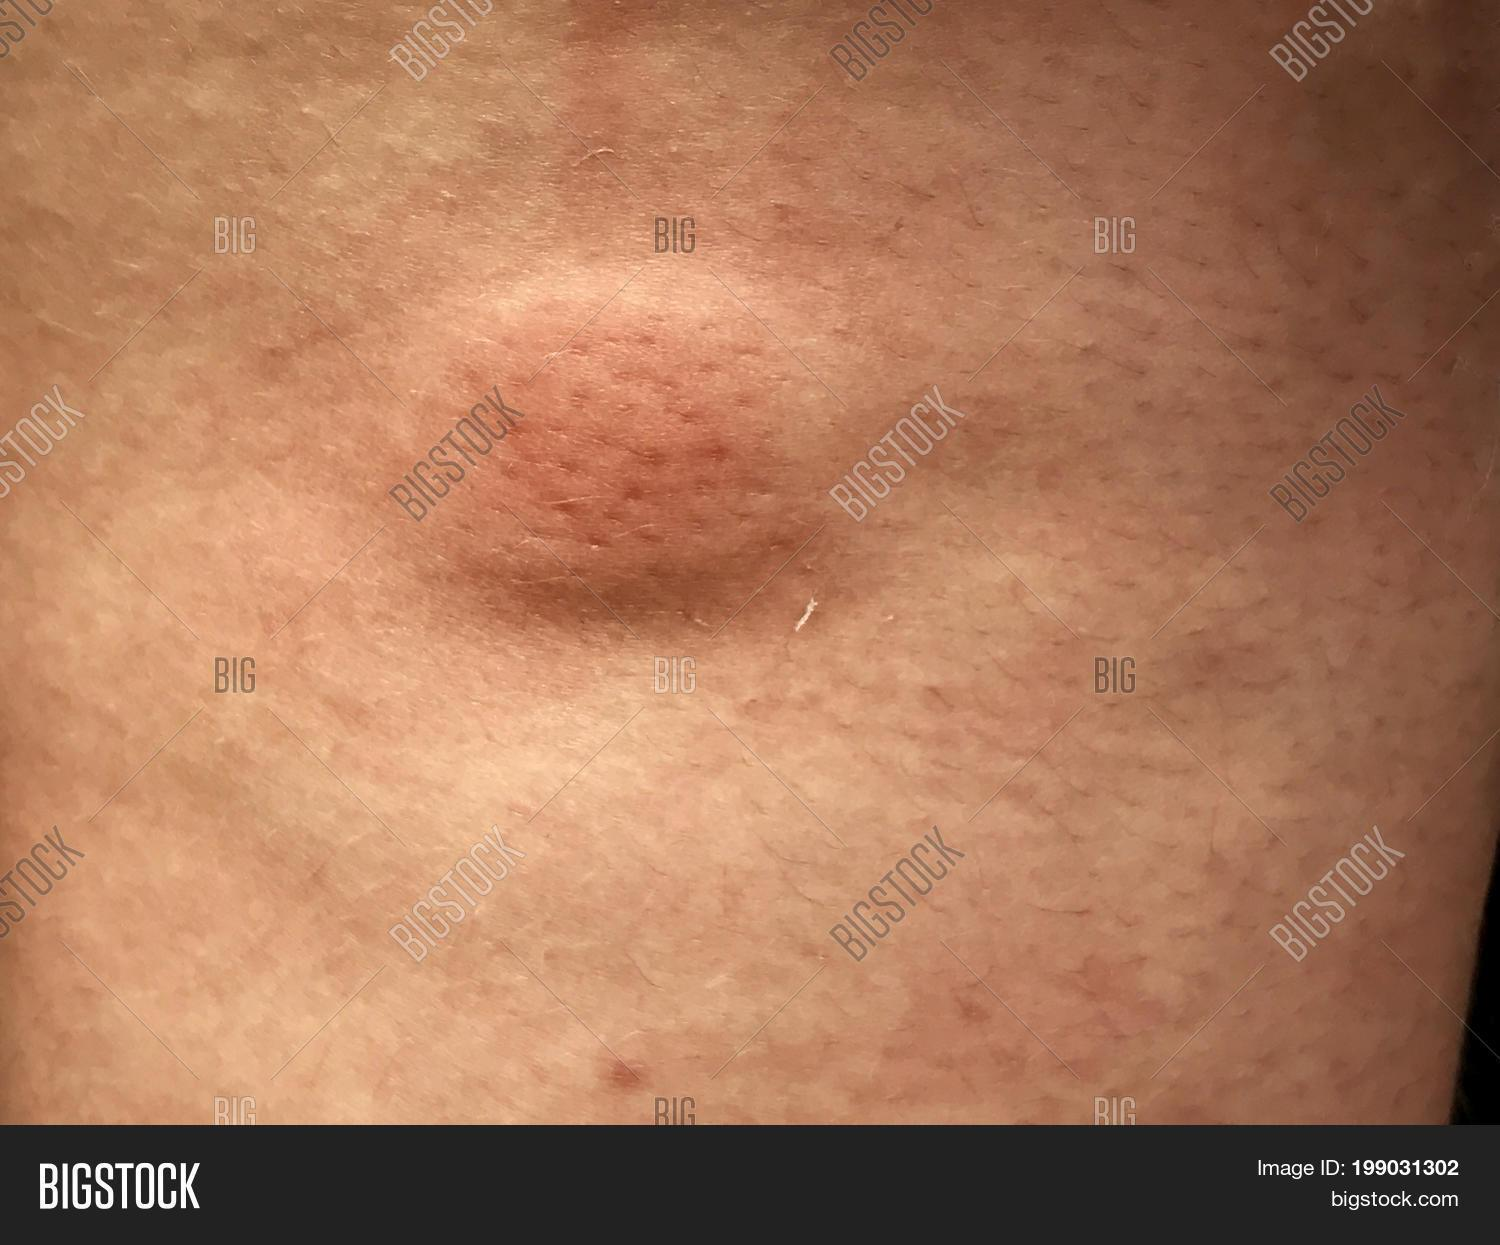Mosquito: (366, 168, 906, 700)
